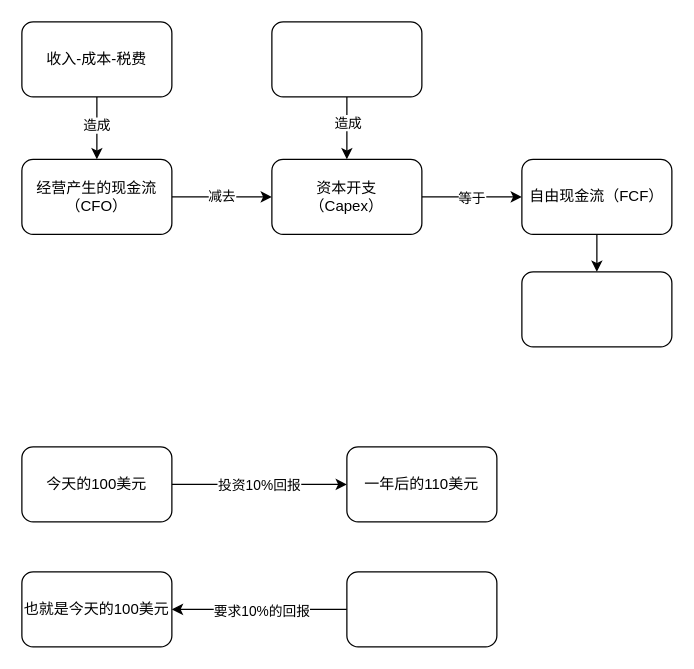
The diagram is 694 pixels wide and 669 high, and some of its shapes have lost their labels. The shapes that lost their labels are listed below. From the top down, each one's box as (x1, y1, x2, y2) in pixels, then its label:
(271, 21, 422, 97): 购买厂房、设备等
(521, 271, 672, 347): 通过分红、回购 回报股东
(346, 571, 497, 647): 一年后得到的110美元
